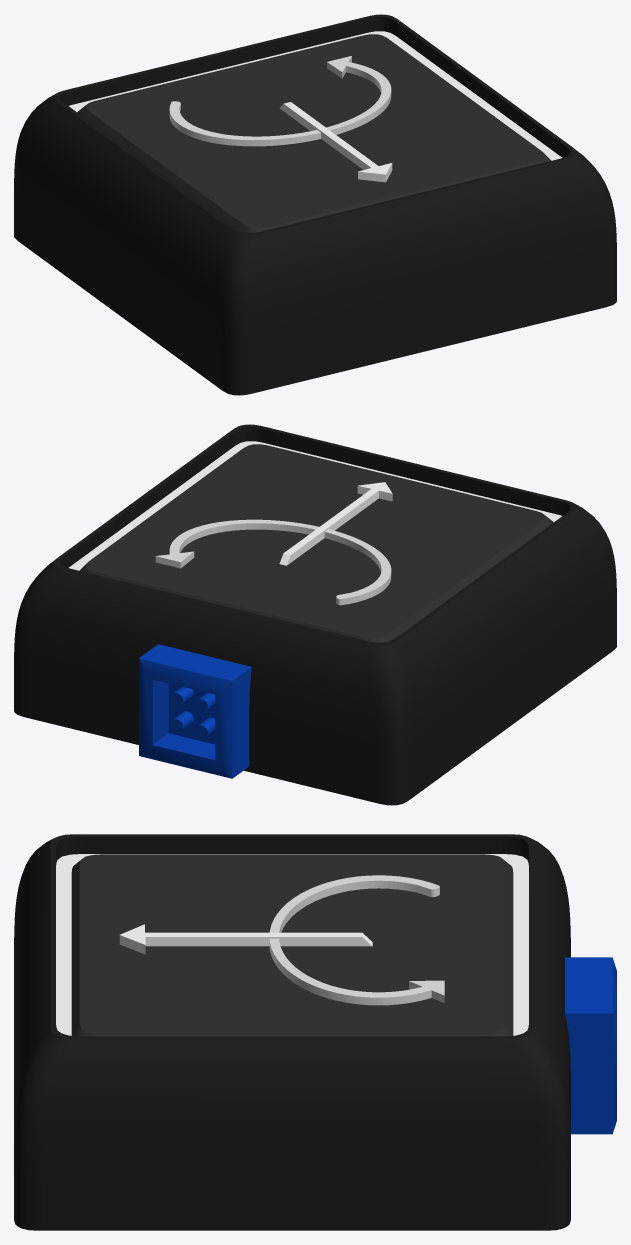
Rendered from AngularVelocitySensor.gltf.
3 views of the same model, one above another, from view 1: azimuth 30°, elevation 25°; view 2: azimuth 150°, elevation 25°; view 3: azimuth 270°, elevation 25° (orthographic). The views are drawn at different scales.
Parts seen in each view (by area): view 1: base; view 2: base; view 3: base.
Part boxes in pixels (x1,y1,x2,y2): base: [14, 14, 616, 395]; base: [14, 424, 616, 805]; base: [14, 834, 616, 1230].
Size of the model in its own units: 0.25 by 0.0884 by 0.2706.
